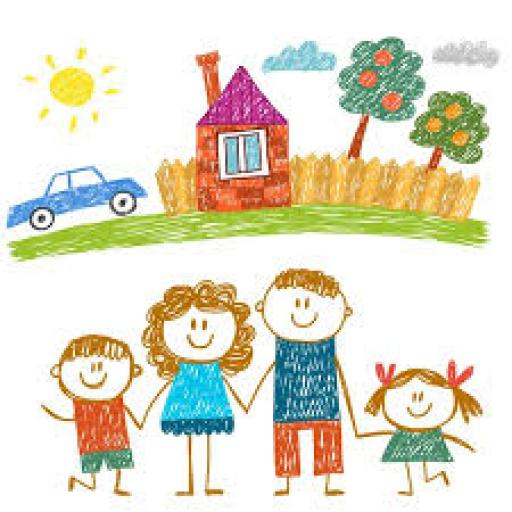person: (247, 264, 360, 504), (143, 277, 259, 501), (360, 348, 484, 503), (42, 324, 143, 501)
